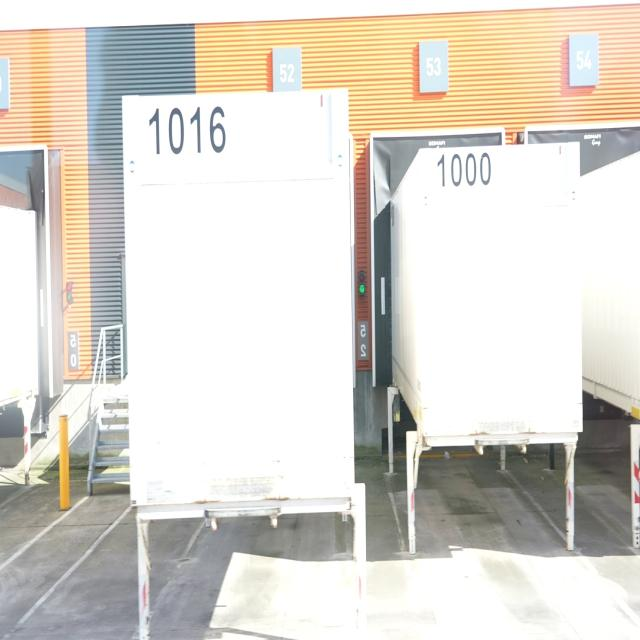Code: (148, 100, 230, 157), (434, 149, 496, 192)
